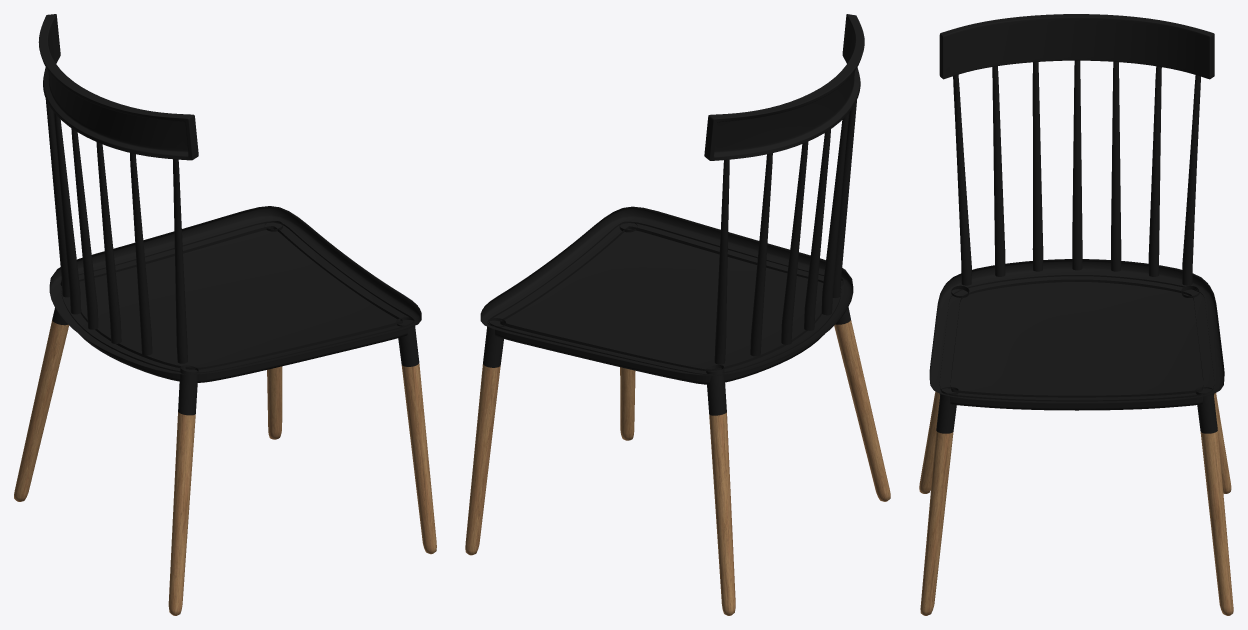
File: seat.glb
3 views of the same model, side by side, from view 1: azimuth 30°, elevation 25°; view 2: azimuth 150°, elevation 25°; view 3: azimuth 270°, elevation 25° (orthographic). The views are drawn at different scales.
Parts seen in each view (by area): view 1: seat; view 2: seat; view 3: seat.
Part boxes in pixels (x1,y1,x2,y2): seat: (14, 14, 436, 615); seat: (465, 14, 890, 615); seat: (919, 14, 1233, 615).
Bounding box in the file's own units: 0.682 × 1.08 × 0.6547.
2 materials, 1 textured.
